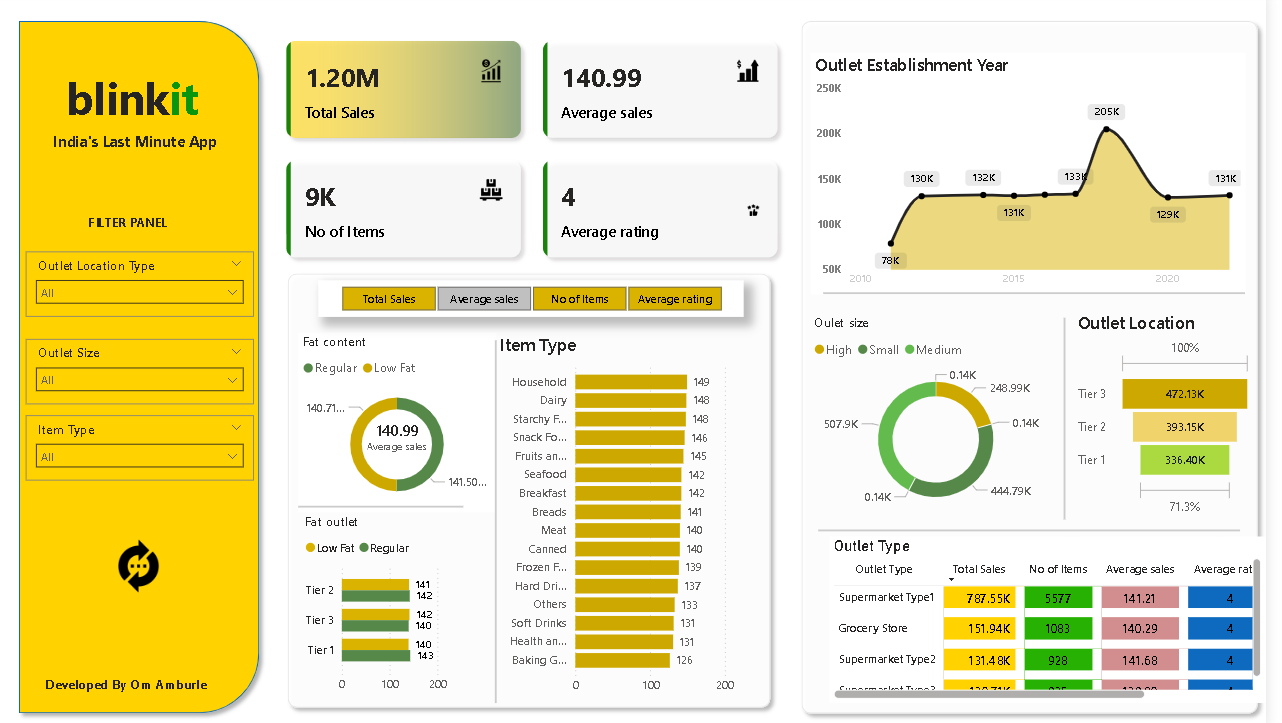

This screenshot's page, from the dashboard's own definition file:
{"tool":"powerbi","page":{"name":"Page 1","canvas":[1400,800],"ordinal":0},"visuals":[{"type":"shape","box":[31.4,20,280,772.9],"z":0},{"type":"textbox","box":[53.4,75,221.6,117],"z":1000},{"type":"textbox","box":[31.4,142.9,271.4,50],"z":2000},{"type":"cardVisual","fields":{"Data":["BlinkIT Grocery Data.Total Sales","BlinkIT Grocery Data.Average sales","BlinkIT Grocery Data.No of Items","BlinkIT Grocery Data.Average rating"]},"box":[314.3,34.3,570,270],"z":3000},{"type":"shape","box":[324.3,295.7,544.3,491.4],"z":4000},{"type":"donutChart","title":"Fat content","fields":{"Y":["BlinkIT Grocery Data.Average sales"],"Category":["BlinkIT Grocery Data.Item Fat Content"]},"box":[344.3,370,215.7,195.7],"z":5000},{"type":"slicer","fields":{"Values":["Metrics.Metrics"]},"box":[367.1,312.9,464.3,40],"z":6000},{"type":"cardVisual","fields":{"Data":["BlinkIT Grocery Data.Average sales"]},"box":[402.9,447.1,101.4,67.1],"z":7000},{"type":"clusteredBarChart","title":"Fat outlet","fields":{"Y":["BlinkIT Grocery Data.Average sales"],"Category":["BlinkIT Grocery Data.Outlet Location Type"],"Series":["BlinkIT Grocery Data.Item Fat Content"]},"box":[347.1,565.7,194.3,205.7],"z":8000},{"type":"shape","box":[345,552,180,14],"z":9000},{"type":"shape","box":[470,377.1,180,395.7],"z":10000},{"type":"barChart","title":"Item Type","fields":{"Y":["BlinkIT Grocery Data.Average sales"],"Category":["BlinkIT Grocery Data.Item Type"]},"box":[560,370,295.7,402.9],"z":11000},{"type":"shape","box":[884.5,20.5,515.5,773.2],"z":12000},{"type":"lineChart","title":"Outlet Establishment Year","fields":{"Y":["BlinkIT Grocery Data.Total Sales"],"Category":["BlinkIT Grocery Data.Outlet Establishment Year"]},"box":[904,64,474,264],"z":13000},{"type":"shape","box":[1090,352.9,180,220],"z":14000},{"type":"shape","box":[918,316,460,20],"z":15000},{"type":"donutChart","title":"Oulet size","fields":{"Y":["BlinkIT Grocery Data.Average sales","BlinkIT Grocery Data.Total Sales"],"Category":["BlinkIT Grocery Data.Outlet Size"]},"box":[902.9,348.6,275.7,225.7],"z":16000},{"type":"funnel","title":" Outlet Location","fields":{"Y":["Sum(BlinkIT Grocery Data.Sales)"],"Category":["BlinkIT Grocery Data.Outlet Location Type"]},"box":[1190,344.3,200,230],"z":17000},{"type":"shape","box":[911.4,565.7,460,38.6],"z":18000},{"type":"pivotTable","title":"Outlet Type","fields":{"Rows":["BlinkIT Grocery Data.Outlet Type"],"Values":["BlinkIT Grocery Data.Total Sales","BlinkIT Grocery Data.No of Items","BlinkIT Grocery Data.Average sales","BlinkIT Grocery Data.Average rating","Sum(BlinkIT Grocery Data.Item Visibility)"]},"box":[924.3,591.4,475.7,181.4],"z":19000},{"type":"slicer","fields":{"Values":["BlinkIT Grocery Data.Outlet Location Type"]},"box":[47.1,281.4,248.6,71.4],"z":20000},{"type":"slicer","fields":{"Values":["BlinkIT Grocery Data.Outlet Size"]},"box":[47.1,375.7,248.6,71.4],"z":21000},{"type":"slicer","fields":{"Values":["BlinkIT Grocery Data.Item Type"]},"box":[47.1,460,248.6,71.4],"z":22000},{"type":"textbox","box":[111.4,234.3,118.6,32.9],"z":23000},{"type":"textbox","box":[8.6,738.6,300,32.9],"z":24000},{"type":"image","box":[135.7,590,68.6,67.1],"z":25000}]}

Visuals, with their boxes in screenshot pixels (x1, y1, x2, y2), scaled from the page's 1400x800 canvas onto the 1282x723 screenshot:
shape: region(29, 18, 285, 717)
textbox: region(49, 68, 252, 174)
textbox: region(29, 129, 277, 174)
cardVisual - BlinkIT Grocery Data.Total Sales x BlinkIT Grocery Data.Average sales: region(288, 31, 810, 275)
shape: region(297, 267, 795, 711)
"Fat content" donutChart: region(315, 334, 513, 511)
slicer - Metrics.Metrics: region(336, 283, 761, 319)
cardVisual - BlinkIT Grocery Data.Average sales: region(369, 404, 462, 465)
"Fat outlet" clusteredBarChart: region(318, 511, 496, 697)
shape: region(316, 499, 481, 512)
shape: region(430, 341, 595, 698)
"Item Type" barChart: region(513, 334, 784, 699)
shape: region(810, 19, 1281, 717)
"Outlet Establishment Year" lineChart: region(828, 58, 1262, 296)
shape: region(998, 319, 1163, 518)
shape: region(841, 286, 1262, 304)
"Oulet size" donutChart: region(827, 315, 1079, 519)
" Outlet Location" funnel: region(1090, 311, 1273, 519)
shape: region(835, 511, 1256, 546)
"Outlet Type" pivotTable: region(846, 534, 1281, 698)
slicer - BlinkIT Grocery Data.Outlet Location Type: region(43, 254, 271, 319)
slicer - BlinkIT Grocery Data.Outlet Size: region(43, 340, 271, 404)
slicer - BlinkIT Grocery Data.Item Type: region(43, 416, 271, 480)
textbox: region(102, 212, 211, 241)
textbox: region(8, 668, 283, 697)
image: region(124, 533, 187, 594)
